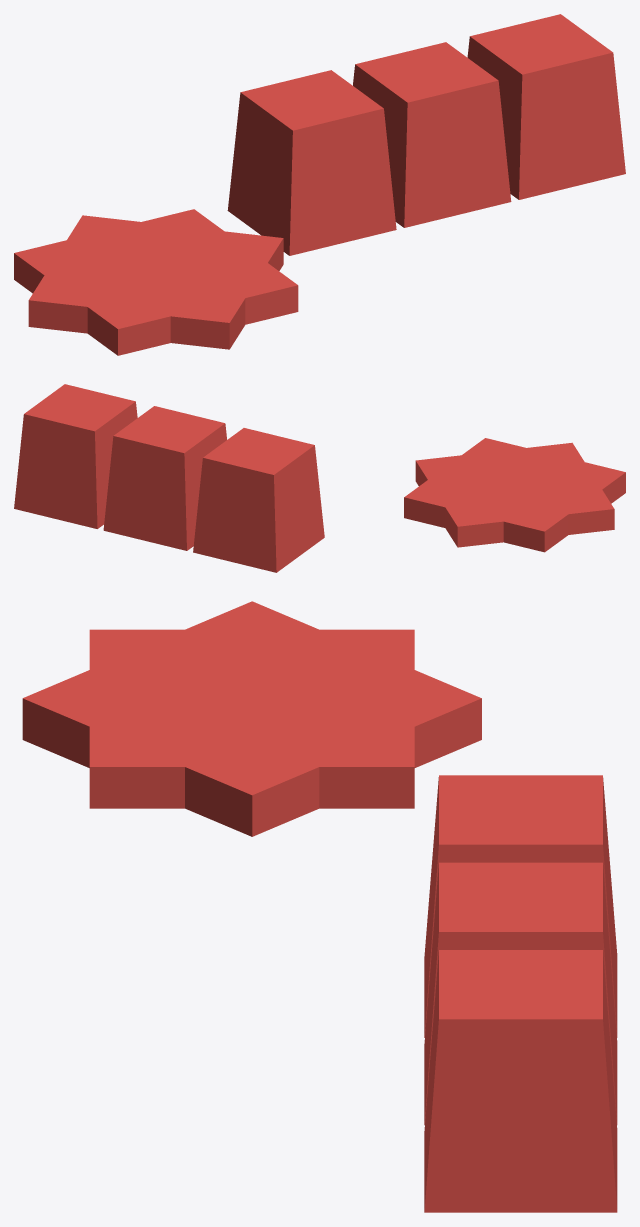
Rendered from keyboardsmash_m0_1.glb.
3 renders of one model, top to bottom at view 1: azimuth 30°, elevation 25°; view 2: azimuth 150°, elevation 25°; view 3: azimuth 270°, elevation 25°, orthographic. The views are drawn at different scales.
Parts seen in each view (by area): view 1: keyboardsmash_m0_1_mesh; view 2: keyboardsmash_m0_1_mesh; view 3: keyboardsmash_m0_1_mesh.
Part boxes in pixels (x1,y1,x2,y2): keyboardsmash_m0_1_mesh: (14,14,625,355); keyboardsmash_m0_1_mesh: (14,384,625,572); keyboardsmash_m0_1_mesh: (22,601,617,1212).
Size of the model in its own units: 0.512 by 0.09 by 0.259.
